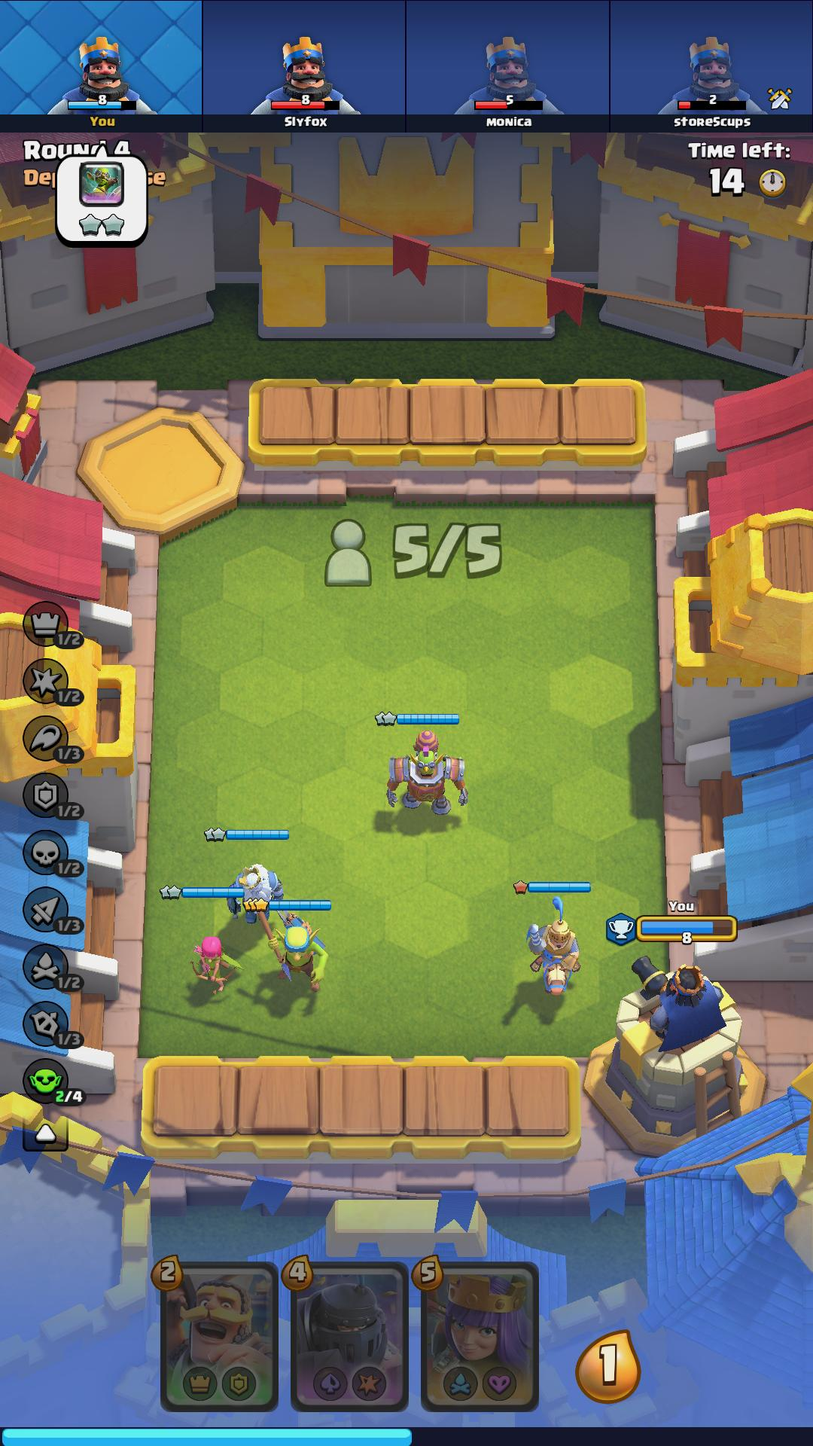archer: (189, 929, 241, 998)
ghost: (230, 855, 284, 928)
hand-knight: (157, 1257, 281, 1408)
hand-mega: (287, 1262, 409, 1408)
hand-queen: (416, 1261, 540, 1409)
machine: (381, 730, 473, 823)
prince: (519, 898, 584, 1002)
spear: (254, 910, 334, 994)
